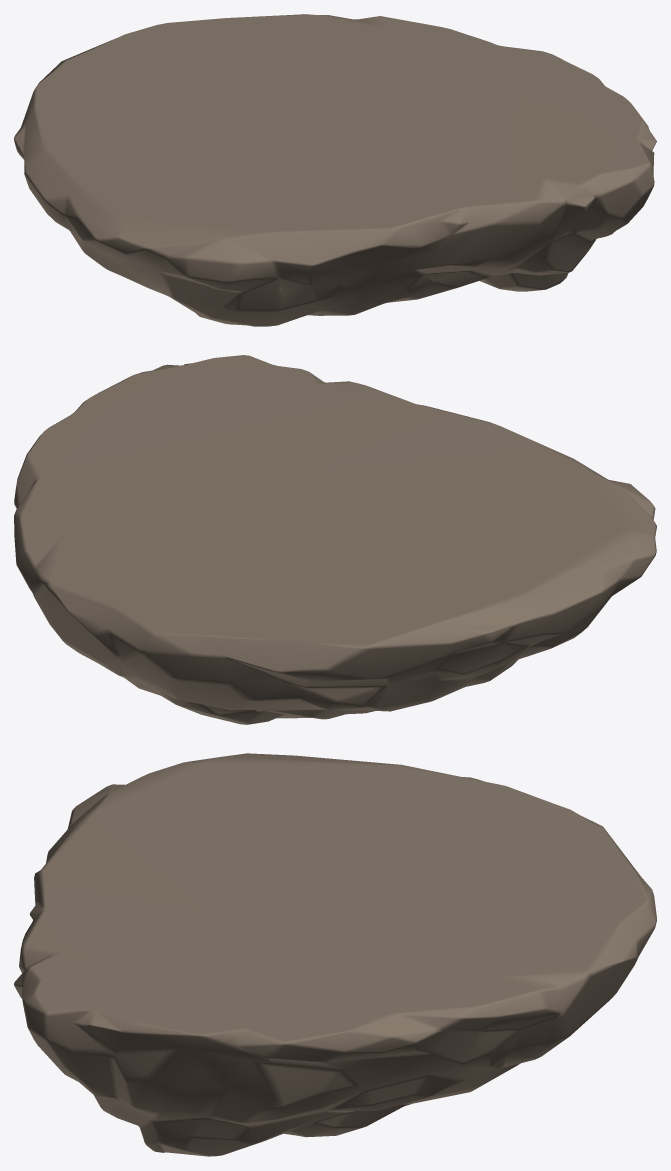
The model's file is IlhaM3.fbx.
3 views of the same model, one above another, from view 1: azimuth 30°, elevation 25°; view 2: azimuth 150°, elevation 25°; view 3: azimuth 270°, elevation 25° (orthographic). The views are drawn at different scales.
Visible parts, largest first — view 1: IlhaM3; view 2: IlhaM3; view 3: IlhaM3.
Part boxes in pixels (x1,y1,x2,y2): IlhaM3: (14, 14, 656, 326); IlhaM3: (14, 355, 656, 724); IlhaM3: (14, 753, 656, 1156).
Size of the model in its own units: 2967 by 861 by 2778.
